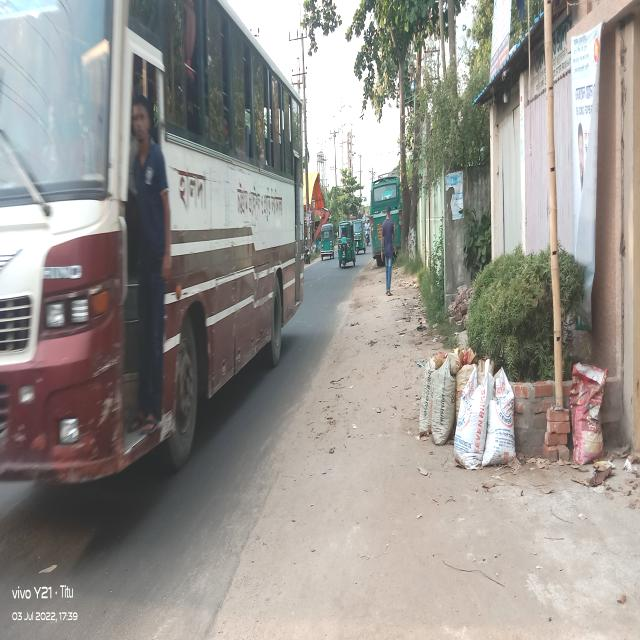bus: (3, 1, 313, 516)
